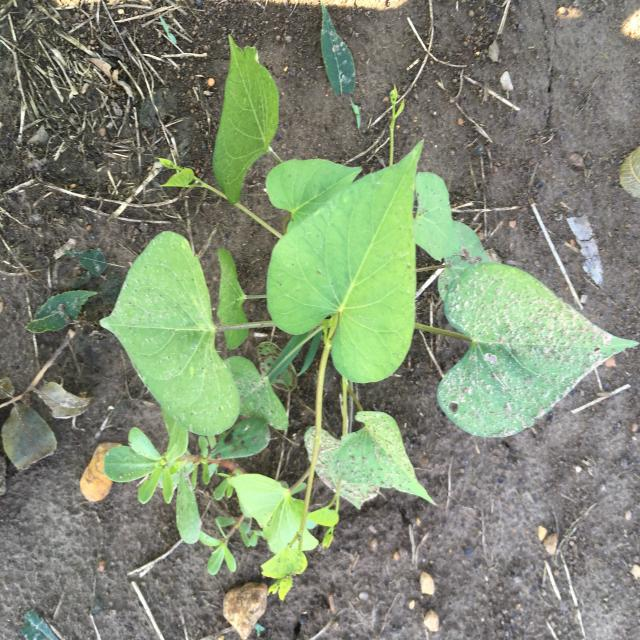MorningGlory: (100, 35, 639, 602)
Purslane: (104, 406, 266, 576)
